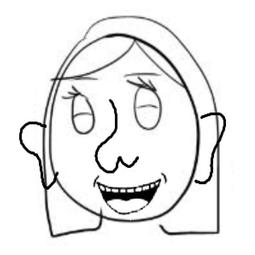eye: (125, 77, 164, 135), (59, 85, 97, 137)
eyebrow: (122, 69, 161, 77), (71, 74, 101, 82)
large_ear: (185, 108, 229, 183), (18, 119, 61, 192)
large_nose: (92, 98, 142, 174)
open_mouth: (91, 174, 165, 216)
